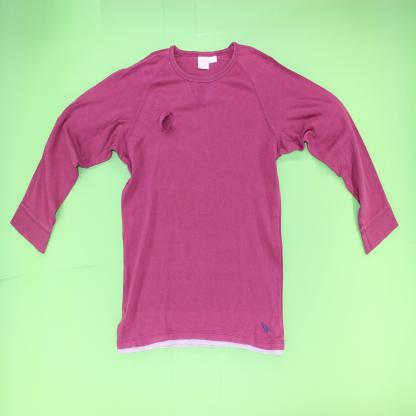hole: (160, 109, 175, 136)
